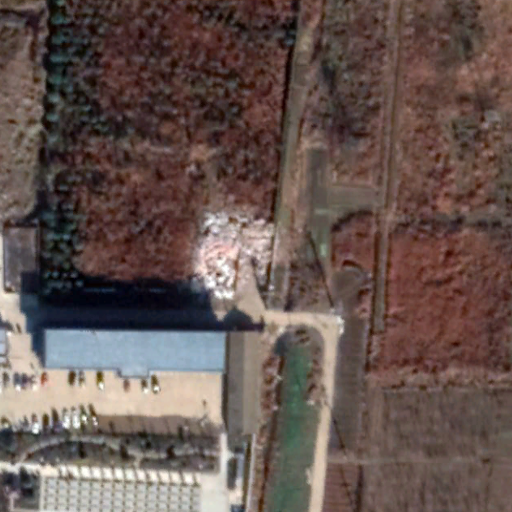msw: (188, 212, 278, 303)
